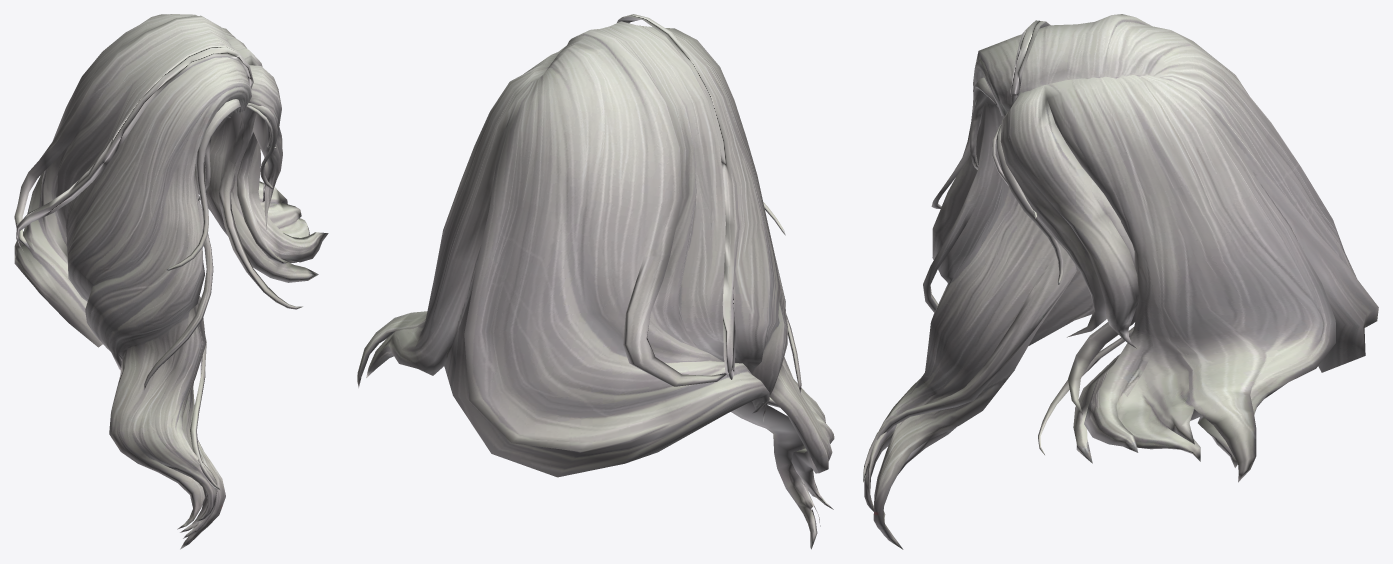
File: Hair2.glb
3 views of the same model, side by side, from view 1: azimuth 30°, elevation 25°; view 2: azimuth 150°, elevation 25°; view 3: azimuth 270°, elevation 25° (orthographic). The views are drawn at different scales.
Parts seen in each view (by area): view 1: body_noesis_meshnode_0000.026; view 2: body_noesis_meshnode_0000.026; view 3: body_noesis_meshnode_0000.026.
Part boxes in pixels (box(x1,y1,x2,y2)): body_noesis_meshnode_0000.026: box(14, 14, 328, 549); body_noesis_meshnode_0000.026: box(357, 14, 834, 549); body_noesis_meshnode_0000.026: box(863, 14, 1378, 549).
Size of the model in its own units: 26.48 by 38.92 by 31.14.
Materials: 1 (1 with a texture image).
